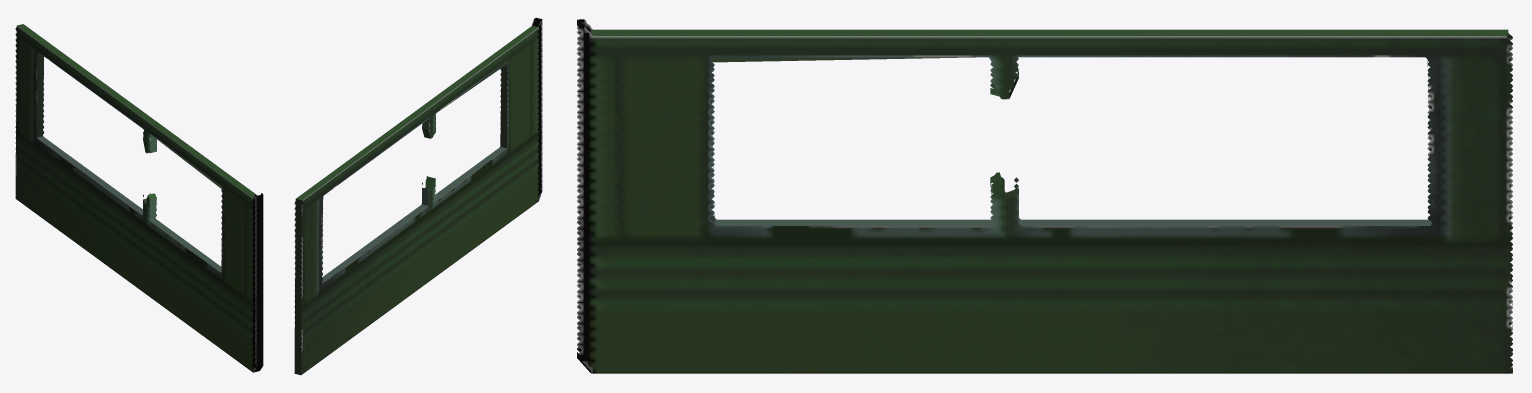
Rendered from pz_native_location_shop_greenes_01_67_frame.obj.
The picture shows the model from 3 angles, left to right: view 1: azimuth 30°, elevation 25°; view 2: azimuth 150°, elevation 25°; view 3: azimuth 270°, elevation 25°; orthographic projection. The views are drawn at different scales.
Visible parts, largest first — view 1: pz_native_location_shop_greenes_01_67_frame; view 2: pz_native_location_shop_greenes_01_67_frame; view 3: pz_native_location_shop_greenes_01_67_frame.
Boxes of the visible parts, box(x1,y1,x2,y2) form: pz_native_location_shop_greenes_01_67_frame: box(15, 24, 263, 372); pz_native_location_shop_greenes_01_67_frame: box(294, 17, 542, 375); pz_native_location_shop_greenes_01_67_frame: box(577, 19, 1512, 373).
Size of the model in its own units: 0.04 by 1.06 by 2.54.
Materials: 1 (1 with a texture image).
